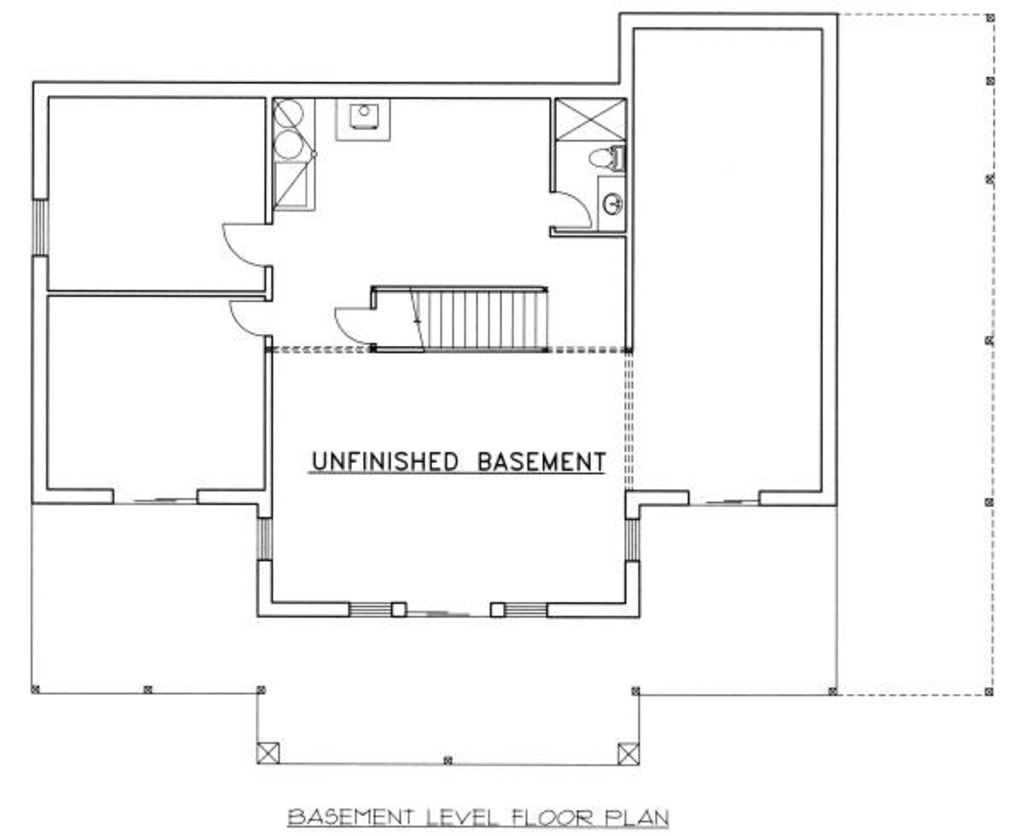door: (216, 214, 283, 273), (330, 304, 391, 355), (225, 296, 273, 346), (550, 186, 594, 239)
large_sink: (583, 139, 630, 176)
small_sink: (598, 174, 629, 239)
stairs: (392, 286, 579, 368)
window: (500, 592, 550, 626), (31, 196, 57, 256), (346, 595, 396, 624), (254, 505, 276, 561)
